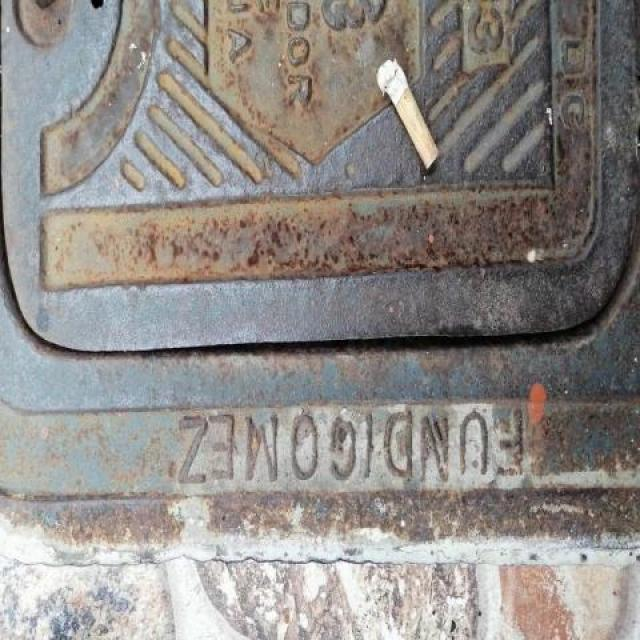non-organic waste: (372, 54, 443, 174)
